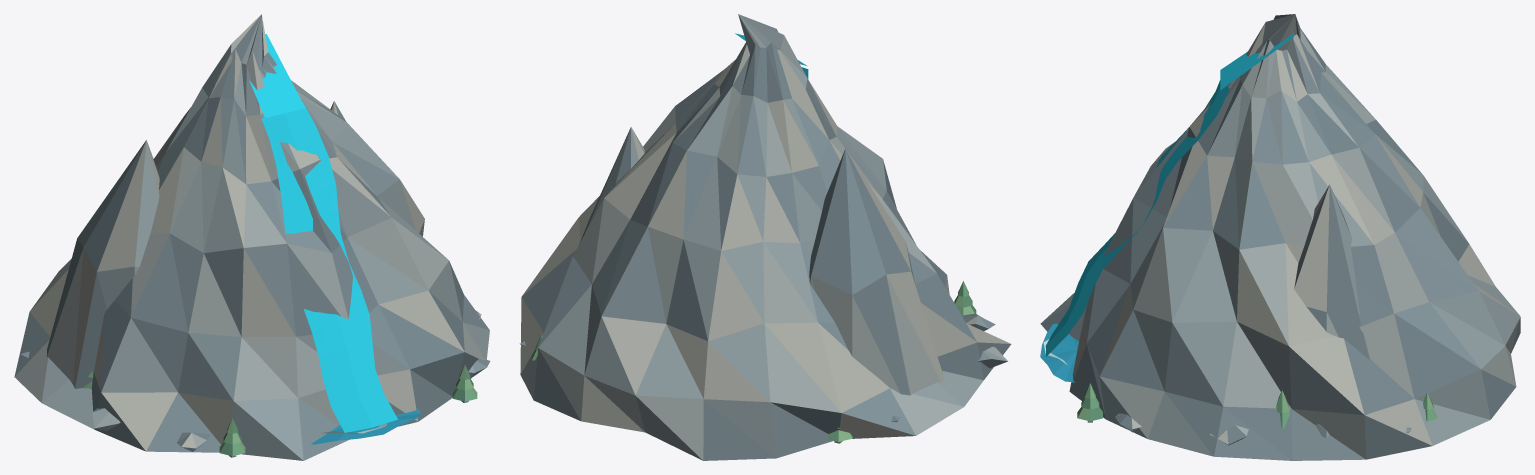
The model's file is mountain_waterfall.glb.
3 renders of one model, left to right at view 1: azimuth 30°, elevation 25°; view 2: azimuth 150°, elevation 25°; view 3: azimuth 270°, elevation 25°, orthographic. The views are drawn at different scales.
Parts seen in each view (by area): view 1: Mountain_Main, Waterfall_Animated, Mountain_Ridge_West, Water_Source, Water_Pool, Alpine_Pine_05, Alpine_Pine_06; view 2: Mountain_Main, Mountain_Ridge_West, Mountain_Ridge_East; view 3: Mountain_Main, Mountain_Ridge_East, Waterfall_Animated, Water_Pool, Water_Source, Alpine_Pine_06.
Boxes of the visible parts, x1,y1,x2,y2 form: Mountain_Main: [14, 14, 489, 460]; Waterfall_Animated: [261, 103, 397, 432]; Mountain_Ridge_West: [46, 140, 159, 388]; Water_Source: [235, 34, 305, 117]; Water_Pool: [311, 408, 420, 444]; Alpine_Pine_05: [219, 418, 245, 457]; Alpine_Pine_06: [452, 365, 477, 402]; Mountain_Main: [520, 14, 1011, 460]; Mountain_Ridge_West: [809, 148, 944, 395]; Mountain_Ridge_East: [579, 127, 644, 243]; Mountain_Main: [1040, 14, 1520, 460]; Mountain_Ridge_East: [1294, 184, 1370, 437]; Waterfall_Animated: [1045, 80, 1229, 356]; Water_Pool: [1040, 323, 1078, 382]; Water_Source: [1220, 32, 1293, 90]; Alpine_Pine_06: [1077, 383, 1102, 422].
Size of the model in its own units: 10.52 by 8.41 by 10.26.
